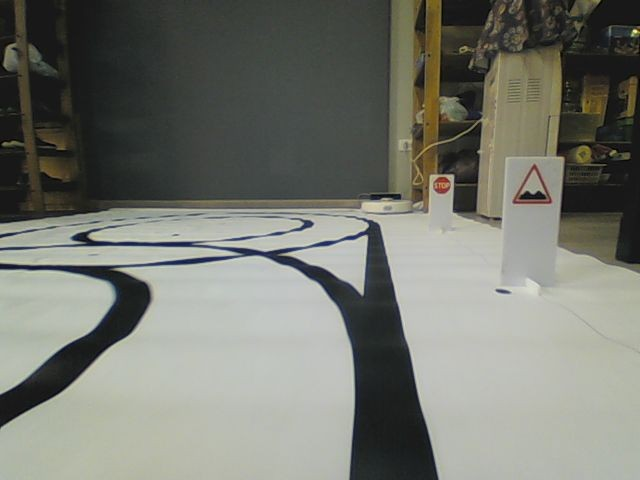Nerov: (512, 162, 554, 205)
Stop: (432, 176, 452, 195)
